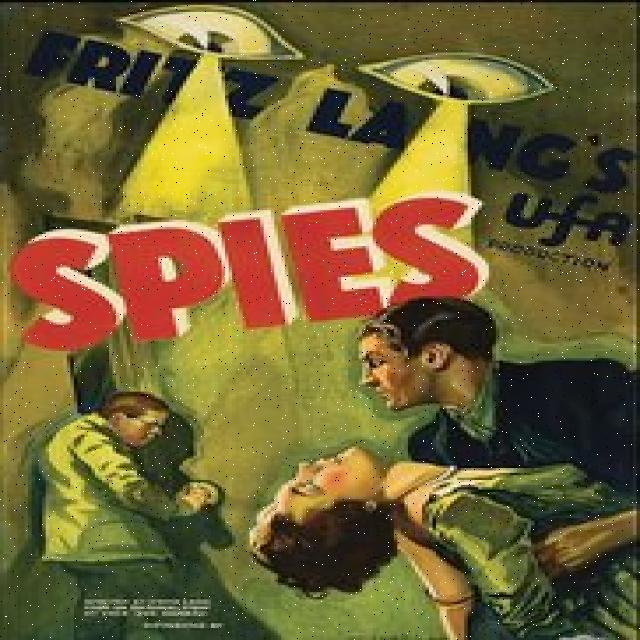movie-judul: (10, 187, 520, 352)
picture: (10, 2, 640, 630)
